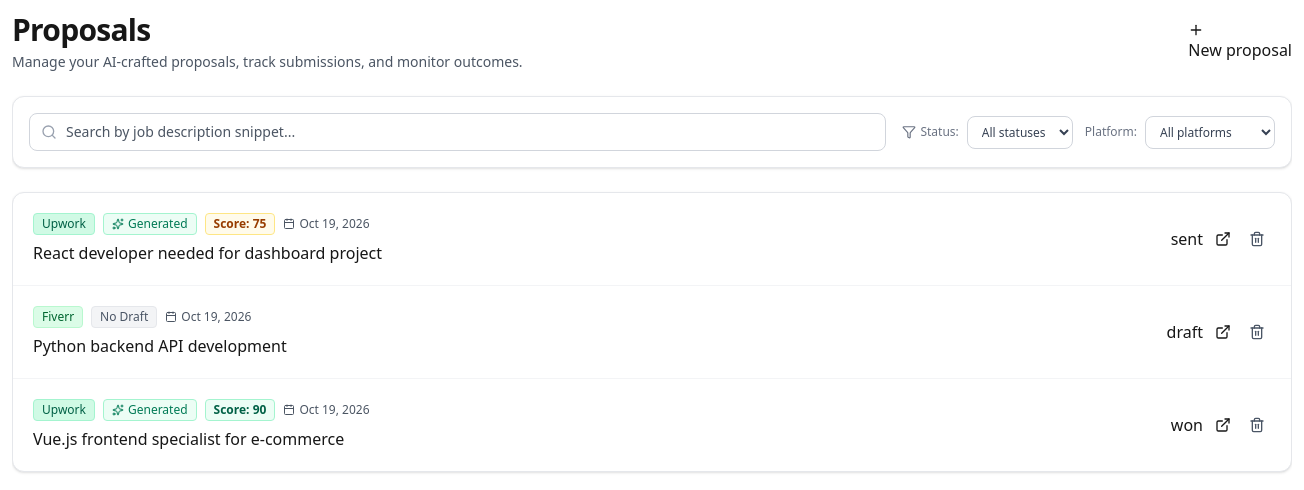
it: ProposalsList – filters and search › shows no proposals when filter matches nothing
Select "Lost" in the dropdown with id "filter-status" at (1020, 132), box x1=967 y1=116 x2=1073 y2=148
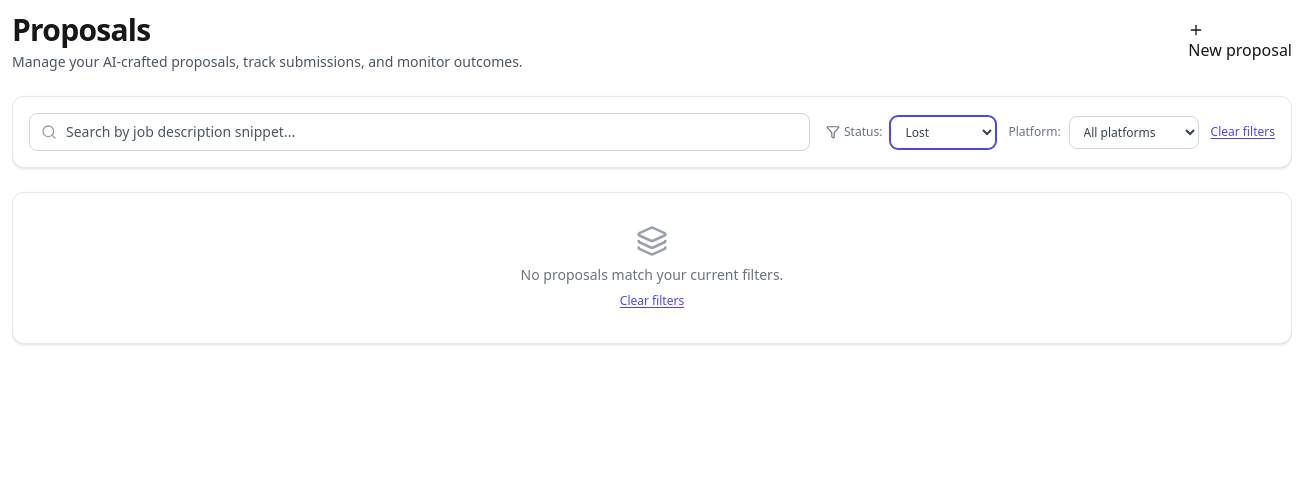
Expected: the link "React developer needed" is gone
Expected: the link "Python backend" is gone
Expected: the link "Vue.js frontend" is gone
